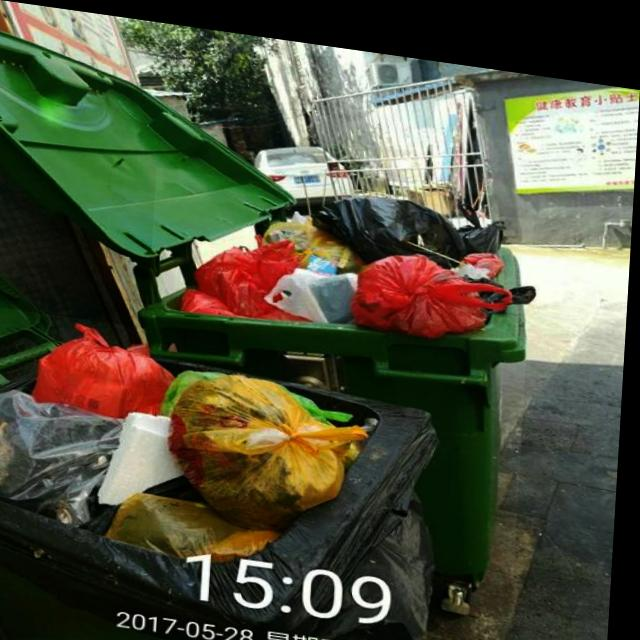overflow: (142, 162, 536, 567), (0, 305, 447, 640)
